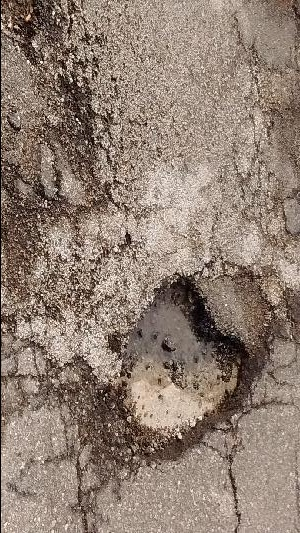pothole: (105, 267, 261, 469), (0, 0, 43, 46)
